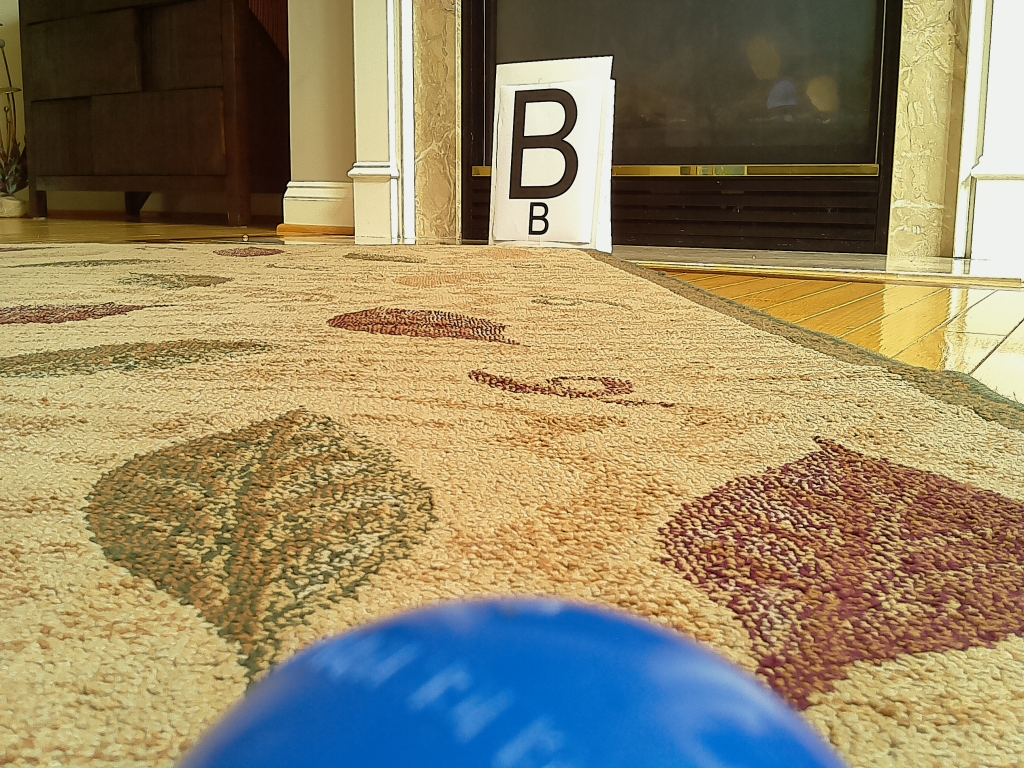letter: (509, 89, 578, 200)
